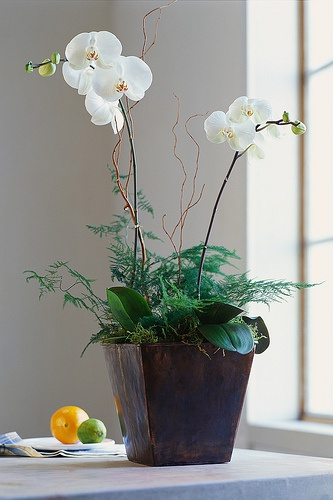flowerpot: (100, 319, 256, 466)
